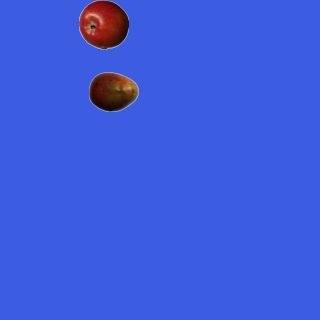Apple Braeburn: (78, 0, 128, 49)
Mango Red: (88, 66, 138, 116)
